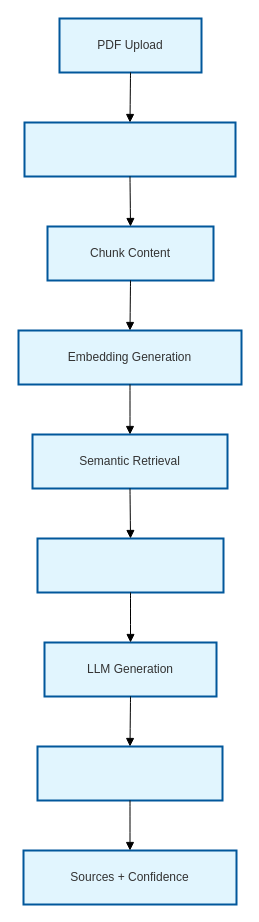
The diagram is 259 pixels wide and 922 high, and some of its shapes have lost their labels. Here are the shapes that lost their labels. From the top down, the box of each, then its label:
(23, 121, 236, 177): Document Processing
(36, 537, 224, 593): Context Assembly
(36, 745, 223, 801): Grounded Answer
